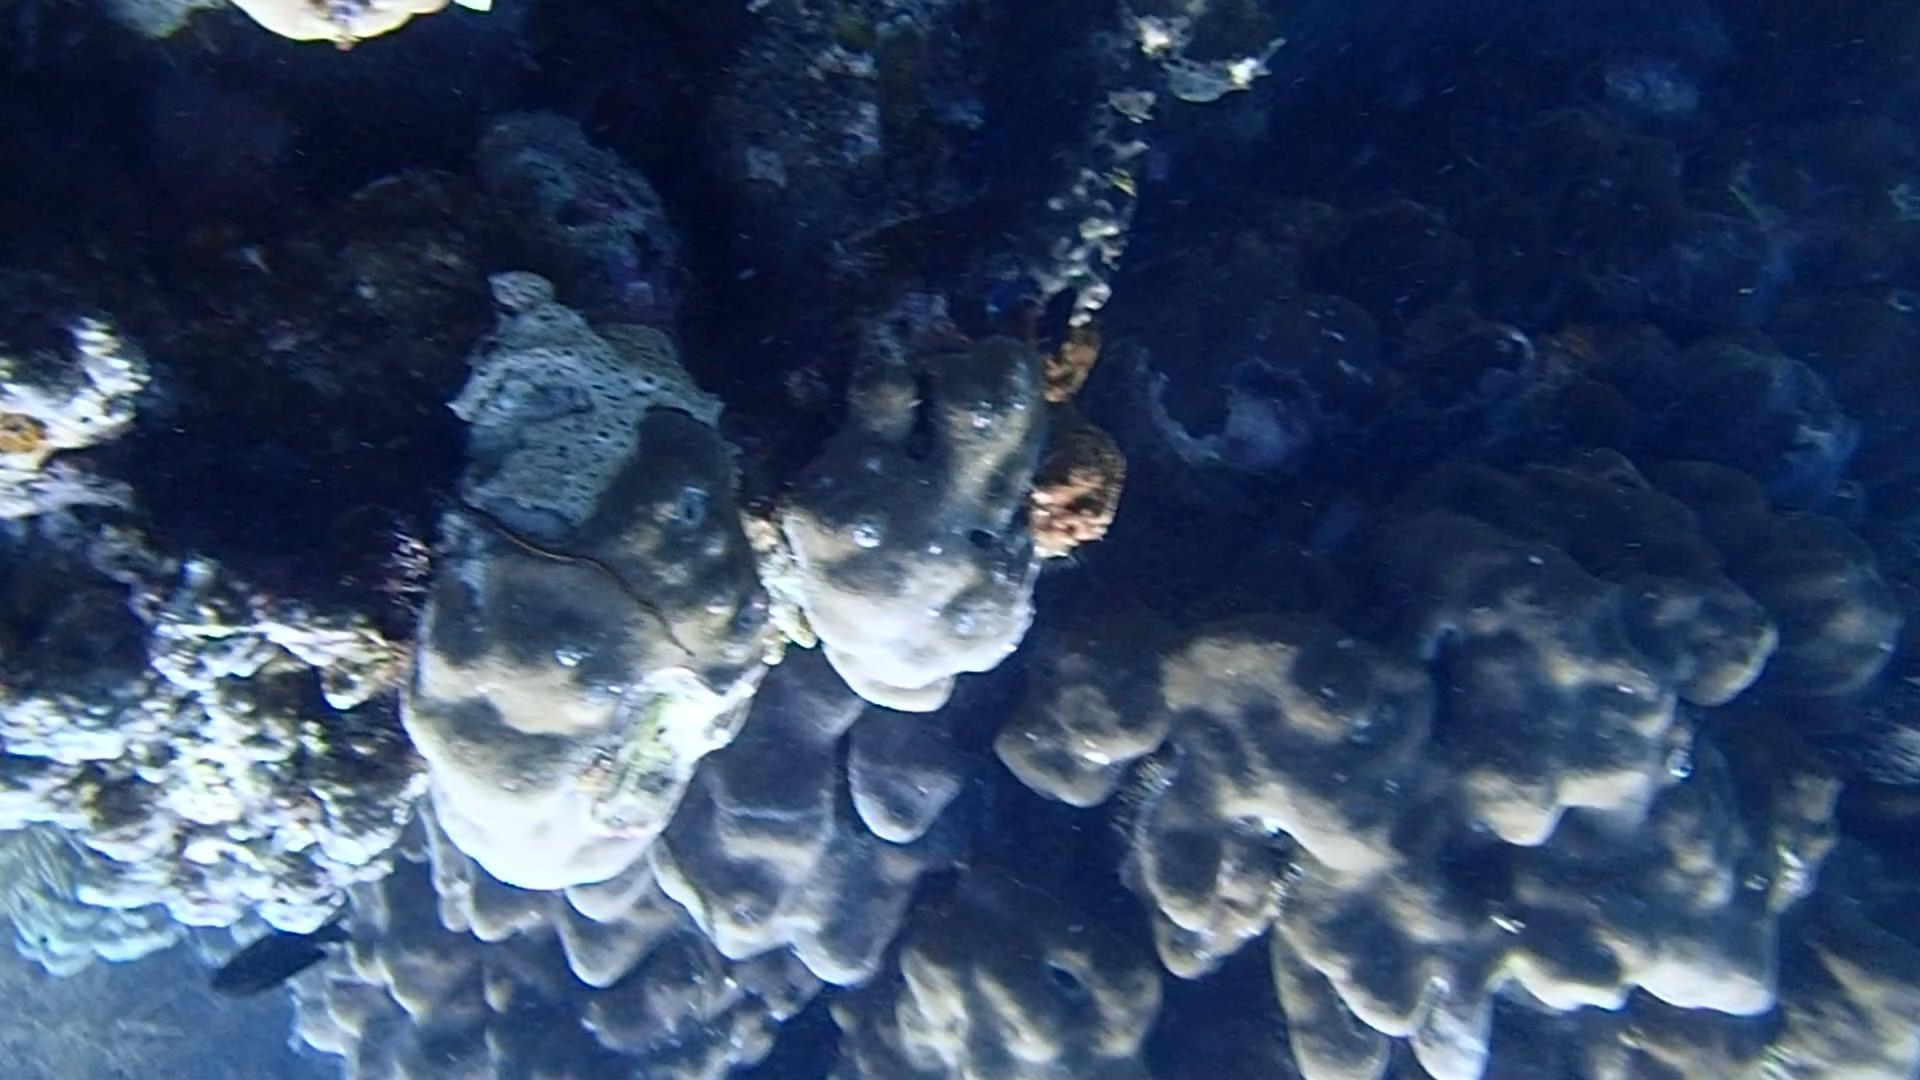Dark Fish: (196, 897, 364, 1019), (1014, 277, 1091, 373)
